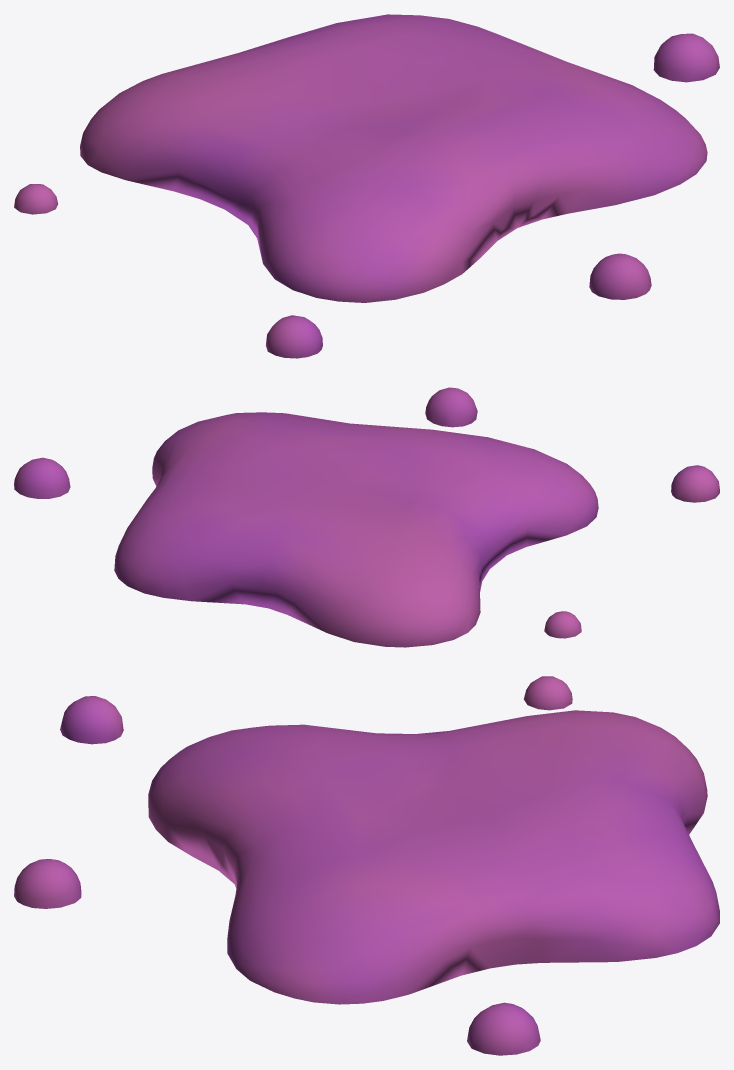
Rendered from goop-splat0.glb.
The picture shows the model from 3 angles, top to bottom: view 1: azimuth 30°, elevation 25°; view 2: azimuth 150°, elevation 25°; view 3: azimuth 270°, elevation 25°; orthographic projection. The views are drawn at different scales.
Visible parts, largest first — view 1: body; view 2: body; view 3: body.
Boxes of the visible parts, bbox=[...] form: body: bbox=[14, 14, 719, 358]; body: bbox=[14, 387, 719, 647]; body: bbox=[14, 676, 719, 1055].
Size of the model in its own units: 0.3977 by 0.0457 by 0.325.
